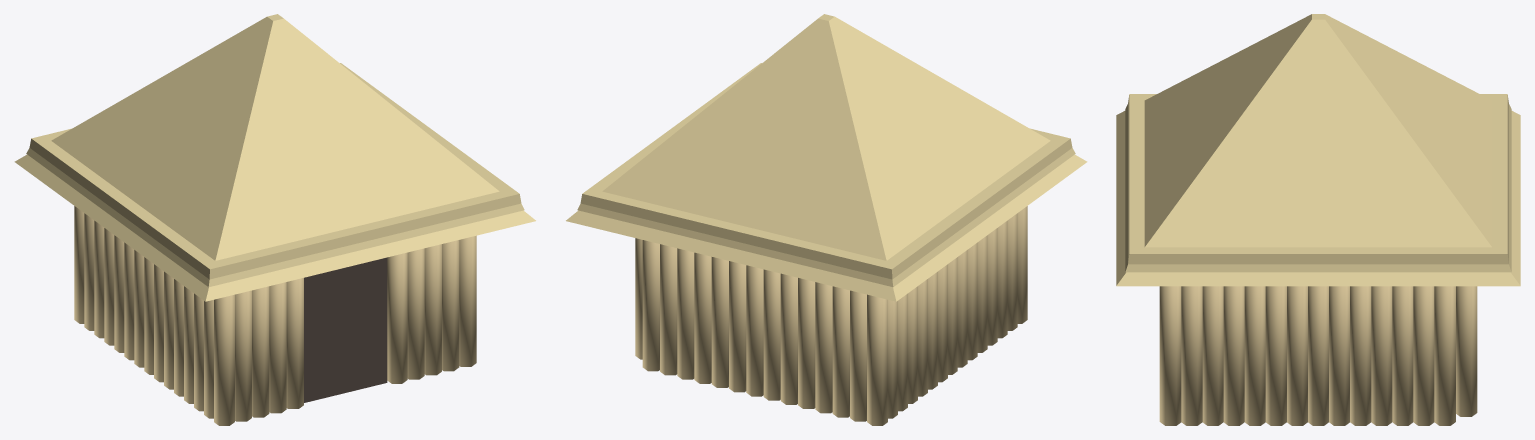
The model's file is hut.glb.
3 views of the same model, side by side, from view 1: azimuth 30°, elevation 25°; view 2: azimuth 150°, elevation 25°; view 3: azimuth 270°, elevation 25° (orthographic). The views are drawn at different scales.
Parts seen in each view (by area): view 1: hut; view 2: hut; view 3: hut.
Part boxes in pixels (box(x1,y1,x2,y2)): hut: box(14, 14, 535, 425); hut: box(566, 14, 1087, 425); hut: box(1116, 14, 1520, 425).
Bounding box in the file's own units: 2.19 × 2.05 × 2.19.
